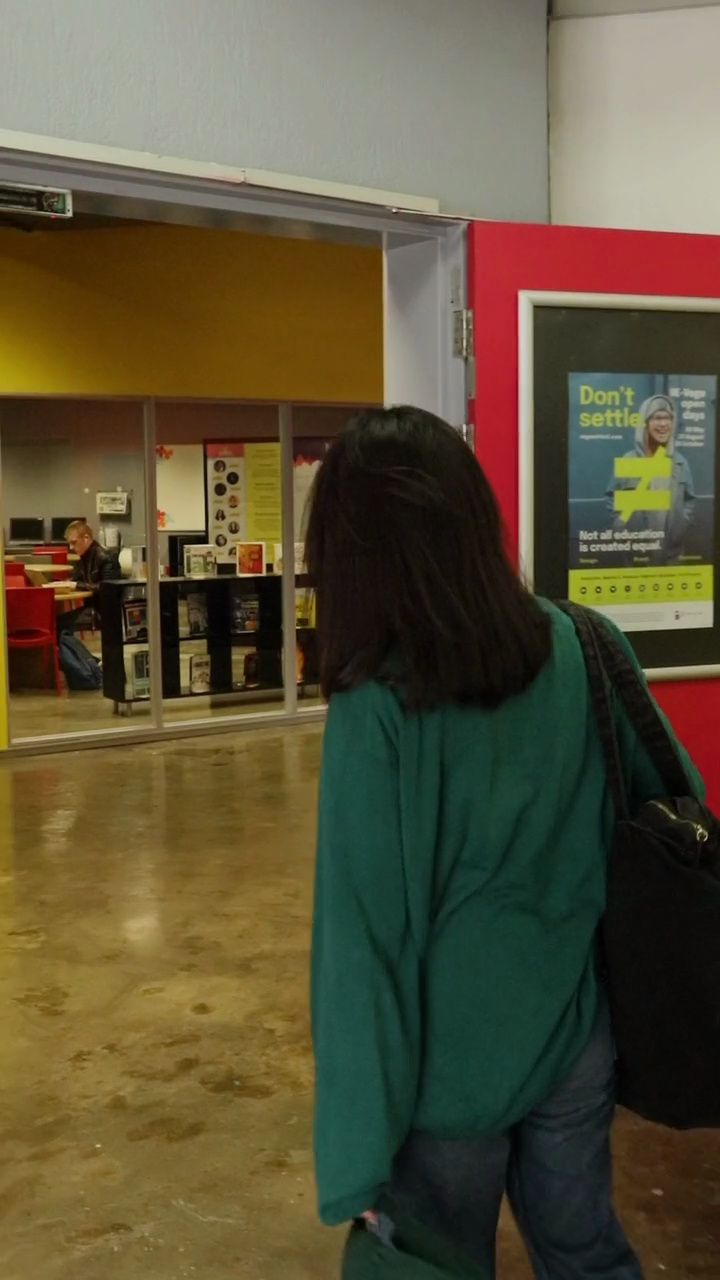dates_box: (158, 572, 287, 701)
electronics: (90, 110, 594, 1016), (56, 122, 492, 905), (0, 133, 435, 736), (0, 132, 213, 753), (533, 271, 720, 828), (0, 558, 72, 699)
perfume_bottle: (137, 0, 720, 651), (376, 0, 720, 651), (540, 349, 720, 858)
